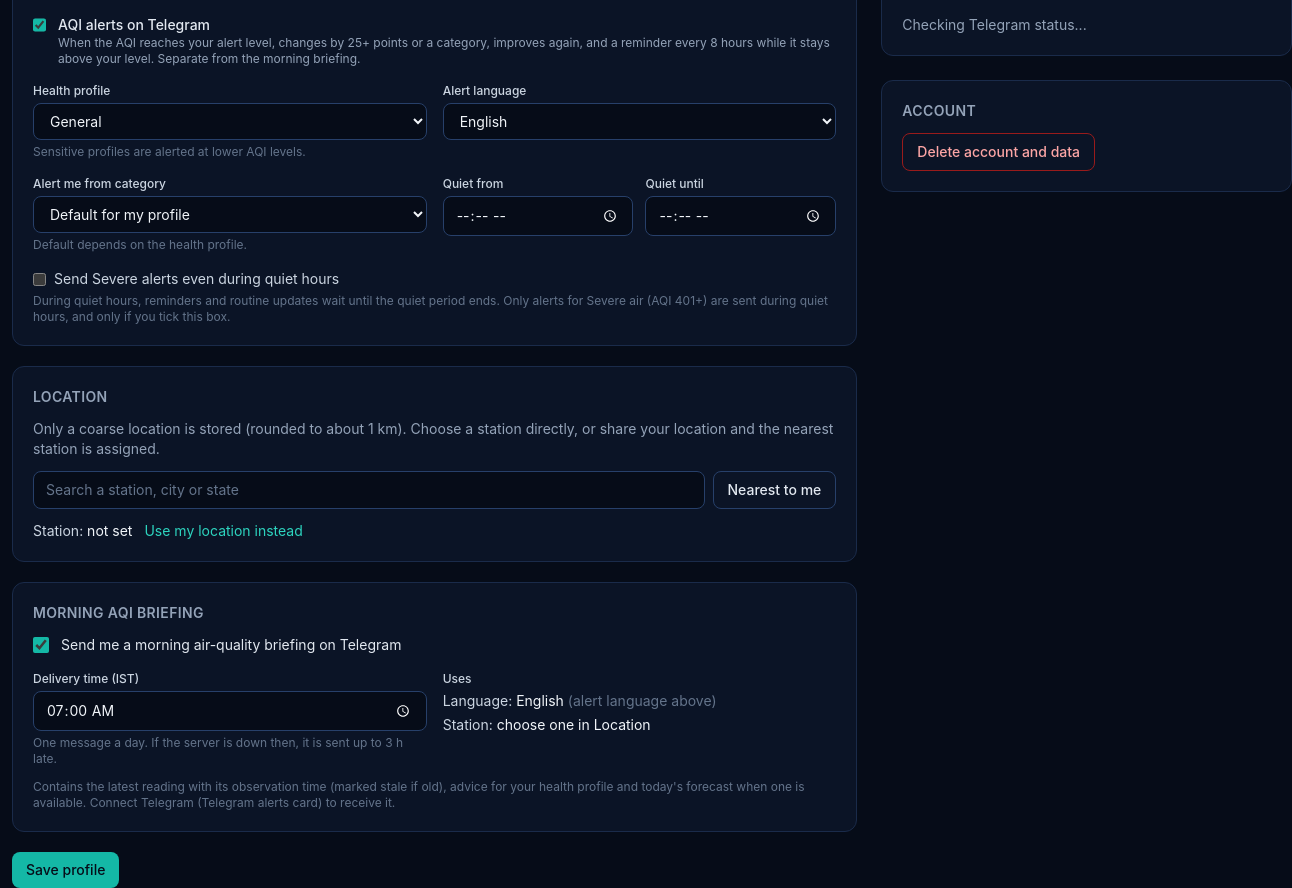
Test: Profile page: collapsible saved settings › a failed save keeps the form open with an error and no success message
This screenshot has width=1292, height=888.
(page scrolled)
Click the button "Save profile": (66, 870) [12,852,119,887]
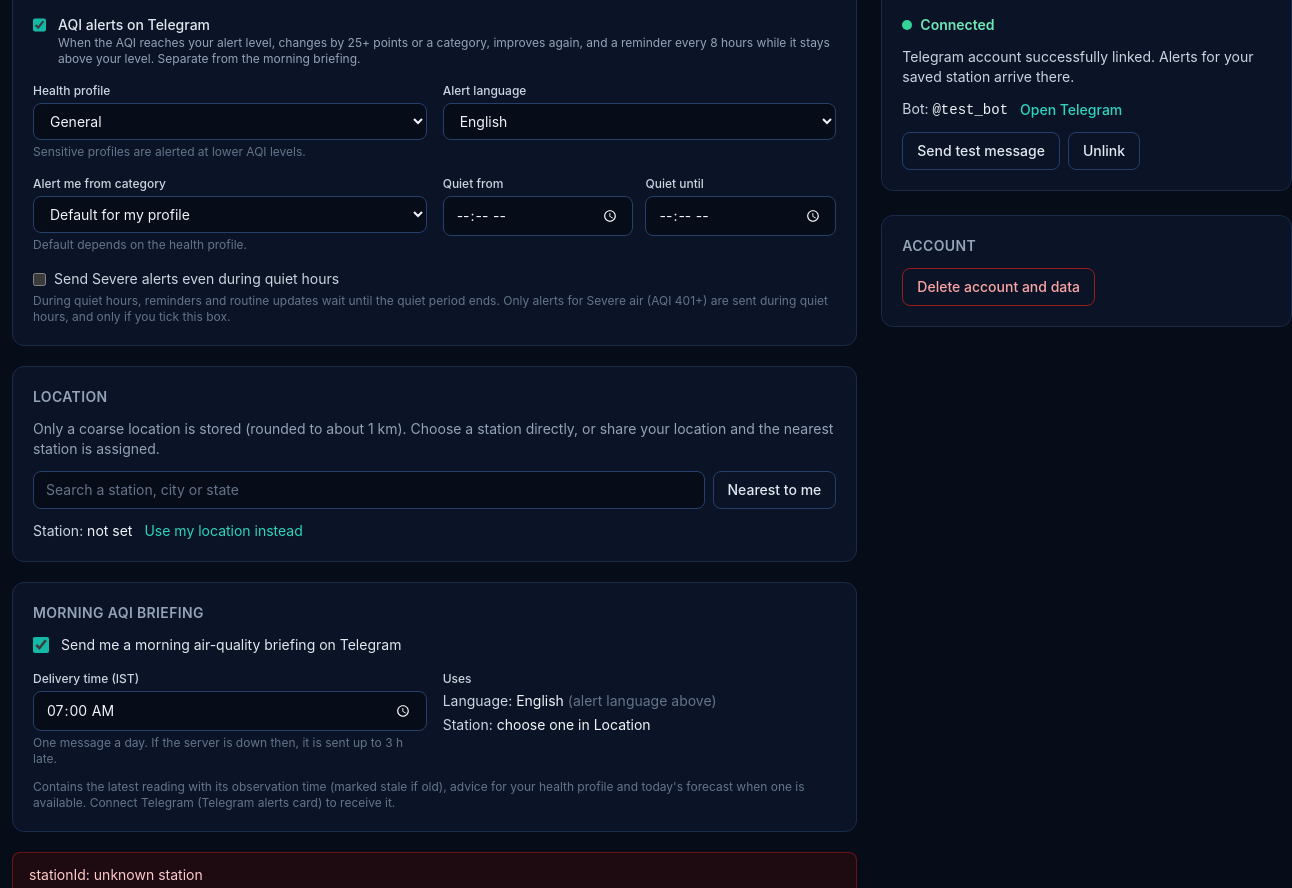
Expected: the text "stationId: unknown station" is shown, [29,866,203,883]
